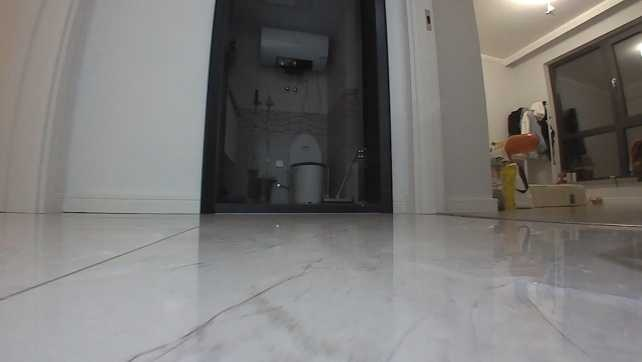door_sill: (217, 200, 371, 214)
toilet: (284, 133, 326, 201)
